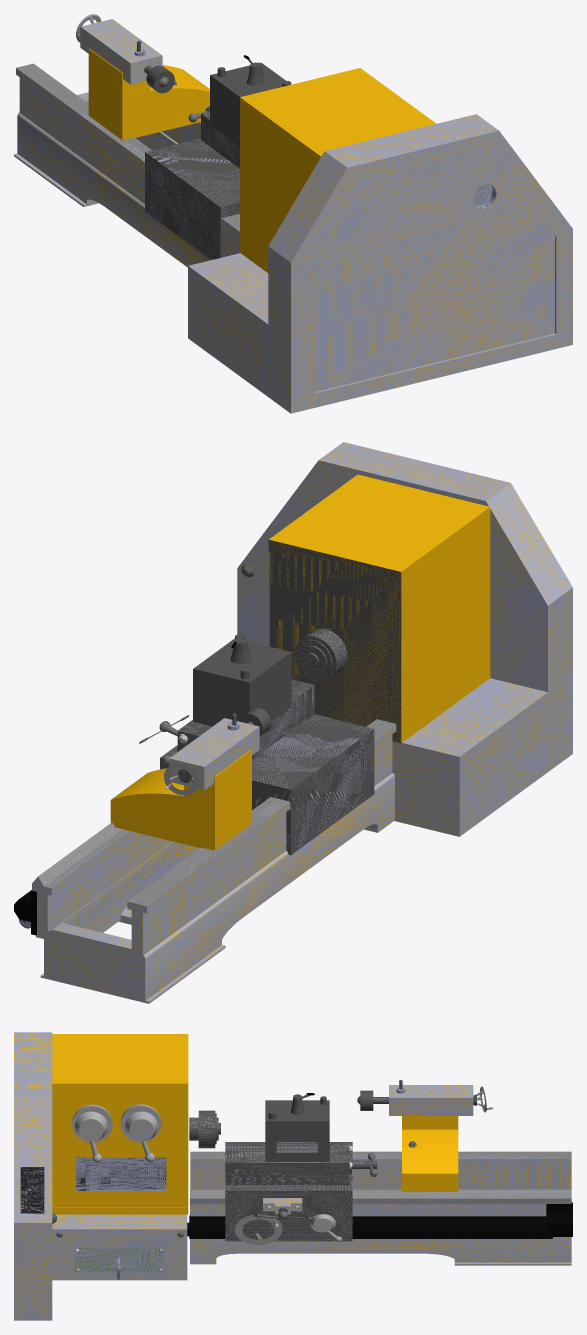
Rendered from maquina_001.obj.
The picture shows the model from 3 angles, top to bottom: view 1: azimuth 30°, elevation 25°; view 2: azimuth 150°, elevation 25°; view 3: azimuth 270°, elevation 25°; orthographic projection. The views are drawn at different scales.
Parts seen in each view (by area): view 1: Mesh158 Group46 Group1 Model, Mesh194 Group60 Group53 Group1 Model, Mesh218 Group64 Group63 Group1 Model, Mesh222 Group1 Model, Mesh49 Group3 Group1 Model, Mesh71 Group26 Group25 Group24 Group1 Model, Mesh104 Group27 Group24 Group1 Model, Mesh120 Group36 Group1 Model, Mesh149 Group39 Group1 Model, Mesh220 Group63 Group1 Model; view 2: Mesh194 Group60 Group53 Group1 Model, Mesh218 Group64 Group63 Group1 Model, Mesh158 Group46 Group1 Model, Mesh222 Group1 Model, Mesh49 Group3 Group1 Model, Mesh71 Group26 Group25 Group24 Group1 Model, Mesh220 Group63 Group1 Model, Mesh120 Group36 Group1 Model, Mesh104 Group27 Group24 Group1 Model, Mesh149 Group39 Group1 Model, Mesh199 Group61 Group53 Group1 Model; view 3: Mesh194 Group60 Group53 Group1 Model, Mesh218 Group64 Group63 Group1 Model, Mesh158 Group46 Group1 Model, Mesh222 Group1 Model, Mesh220 Group63 Group1 Model, Mesh49 Group3 Group1 Model, Mesh149 Group39 Group1 Model, Mesh71 Group26 Group25 Group24 Group1 Model, Mesh216 Group62 Group1 Model, Mesh120 Group36 Group1 Model, Mesh173 Group50 Group1 Model, Mesh104 Group27 Group24 Group1 Model (+9 smaller).
Part boxes in pixels (bbox=[...]): Mesh158 Group46 Group1 Model: bbox=[268, 114, 572, 413]; Mesh194 Group60 Group53 Group1 Model: bbox=[240, 68, 436, 272]; Mesh218 Group64 Group63 Group1 Model: bbox=[14, 63, 239, 267]; Mesh222 Group1 Model: bbox=[188, 253, 268, 396]; Mesh49 Group3 Group1 Model: bbox=[145, 138, 239, 259]; Mesh71 Group26 Group25 Group24 Group1 Model: bbox=[88, 48, 209, 140]; Mesh104 Group27 Group24 Group1 Model: bbox=[80, 19, 162, 84]; Mesh120 Group36 Group1 Model: bbox=[210, 62, 291, 146]; Mesh149 Group39 Group1 Model: bbox=[201, 106, 239, 168]; Mesh220 Group63 Group1 Model: bbox=[154, 122, 200, 145]; Mesh194 Group60 Group53 Group1 Model: bbox=[268, 474, 490, 743]; Mesh218 Group64 Group63 Group1 Model: bbox=[40, 719, 396, 1003]; Mesh158 Group46 Group1 Model: bbox=[237, 442, 572, 771]; Mesh222 Group1 Model: bbox=[392, 678, 547, 836]; Mesh49 Group3 Group1 Model: bbox=[160, 714, 374, 855]; Mesh71 Group26 Group25 Group24 Group1 Model: bbox=[110, 749, 251, 850]; Mesh220 Group63 Group1 Model: bbox=[32, 822, 179, 938]; Mesh120 Group36 Group1 Model: bbox=[193, 634, 291, 726]; Mesh104 Group27 Group24 Group1 Model: bbox=[169, 716, 259, 790]; Mesh149 Group39 Group1 Model: bbox=[177, 679, 314, 759]; Mesh199 Group61 Group53 Group1 Model: bbox=[294, 628, 347, 682]; Mesh194 Group60 Group53 Group1 Model: bbox=[52, 1034, 188, 1214]; Mesh218 Group64 Group63 Group1 Model: bbox=[190, 1151, 571, 1265]; Mesh158 Group46 Group1 Model: bbox=[14, 1032, 52, 1320]; Mesh222 Group1 Model: bbox=[52, 1190, 187, 1280]; Mesh220 Group63 Group1 Model: bbox=[190, 1189, 571, 1237]; Mesh49 Group3 Group1 Model: bbox=[225, 1142, 352, 1241]; Mesh149 Group39 Group1 Model: bbox=[225, 1142, 377, 1185]; Mesh71 Group26 Group25 Group24 Group1 Model: bbox=[402, 1116, 458, 1191]; Mesh216 Group62 Group1 Model: bbox=[189, 1215, 552, 1238]; Mesh120 Group36 Group1 Model: bbox=[265, 1096, 329, 1161]; Mesh173 Group50 Group1 Model: bbox=[75, 1157, 166, 1190]; Mesh104 Group27 Group24 Group1 Model: bbox=[373, 1082, 476, 1115].
Bounding box in the file's own units: 39.04 × 30.72 × 79.5.
